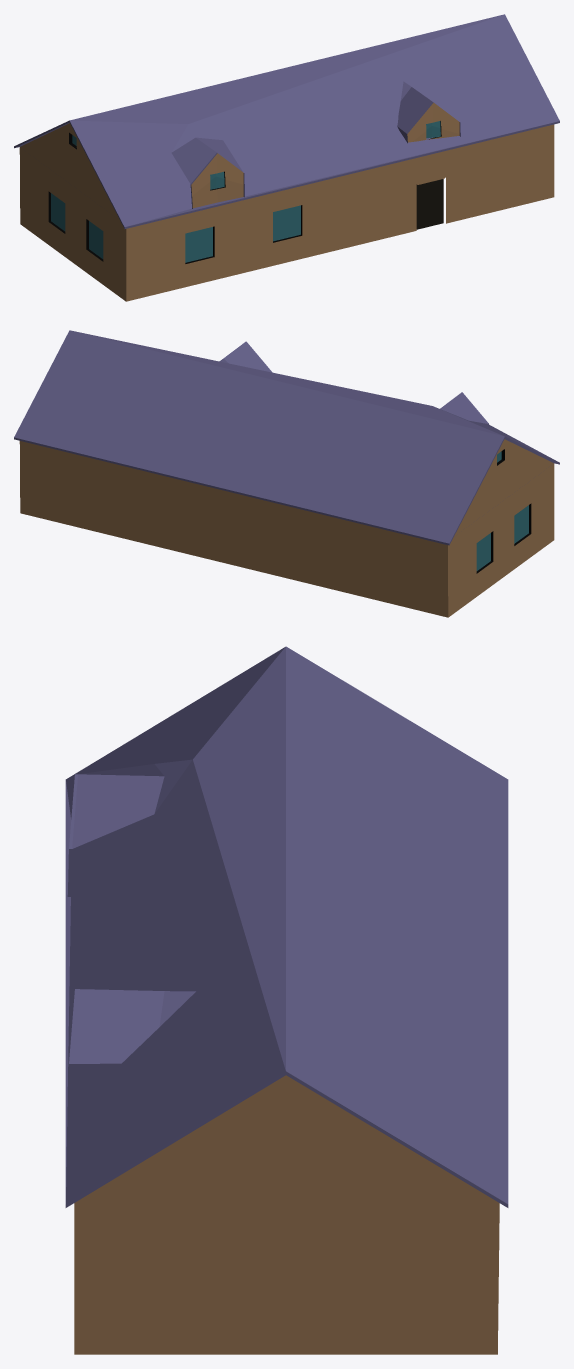
The model's file is Avlangt_Brunt_hus2.fbx.
3 renders of one model, top to bottom at view 1: azimuth 30°, elevation 25°; view 2: azimuth 150°, elevation 25°; view 3: azimuth 270°, elevation 25°, orthographic. The views are drawn at different scales.
Parts seen in each view (by area): view 1: building_002.002; view 2: building_002.002; view 3: building_002.002.
Boxes of the visible parts, x1,y1,x2,y2 form: building_002.002: [14, 14, 559, 301]; building_002.002: [14, 330, 559, 617]; building_002.002: [65, 646, 508, 1354].
Bounding box in the file's own units: 17.8 × 5.6 × 7.83.
